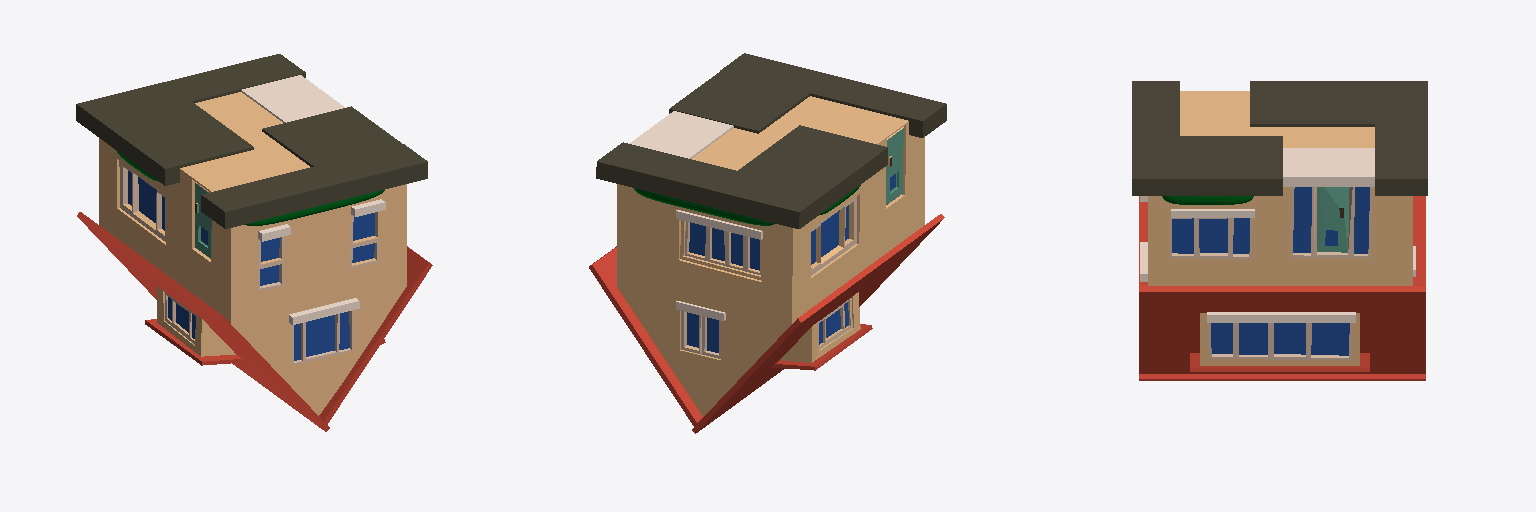
File: casa.obj
3 views of the same model, side by side, from view 1: azimuth 30°, elevation 25°; view 2: azimuth 150°, elevation 25°; view 3: azimuth 270°, elevation 25° (orthographic).
Visible parts, largest first — view 1: Cube.20; view 2: Cube.20; view 3: Cube.20.
Boxes of the visible parts, x1=… form: Cube.20: x1=76, y1=54, x2=432, y2=431; Cube.20: x1=589, y1=53, x2=946, y2=433; Cube.20: x1=1132, y1=81, x2=1427, y2=380.
Bounding box in the file's own units: 121 × 136 × 146.